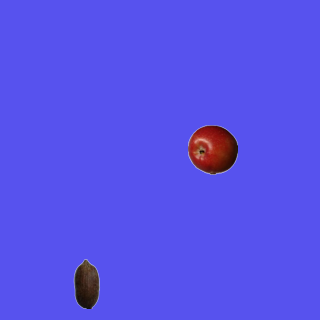Apple Braeburn: (187, 124, 237, 174)
Nut Pecan: (61, 258, 111, 308)
